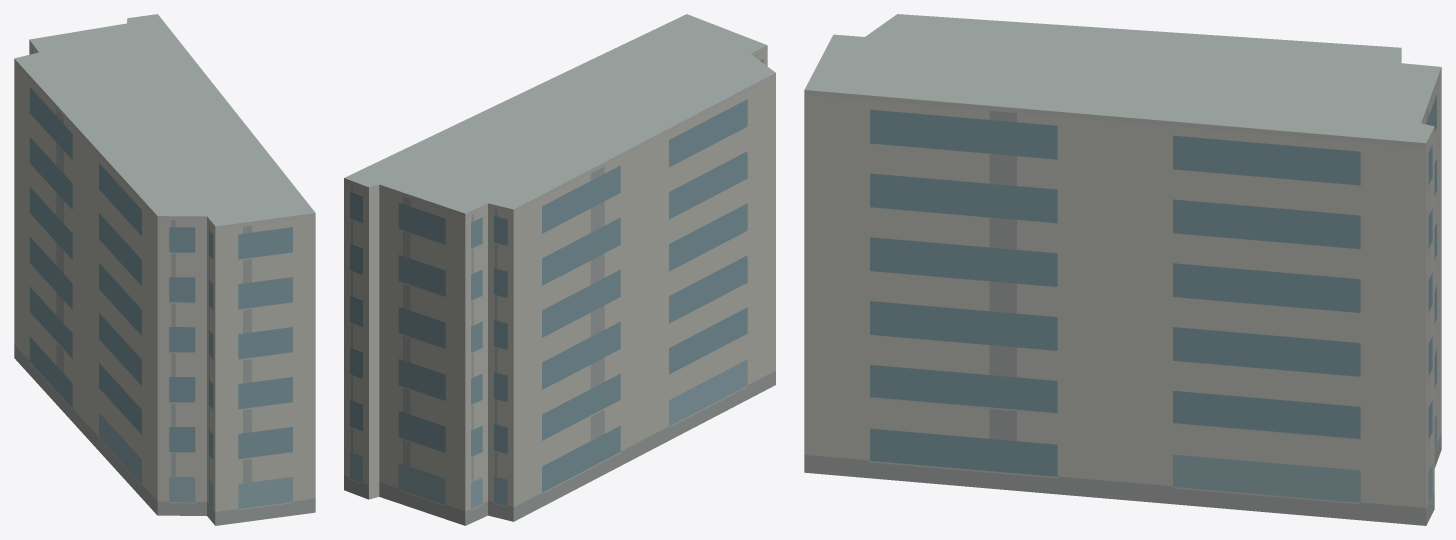
Rendered from survey-upis-32479614.glb.
3 views of the same model, side by side, from view 1: azimuth 30°, elevation 25°; view 2: azimuth 150°, elevation 25°; view 3: azimuth 270°, elevation 25° (orthographic). The views are drawn at different scales.
Parts seen in each view (by area): view 1: survey-upis-32479614.tmp; view 2: survey-upis-32479614.tmp; view 3: survey-upis-32479614.tmp.
Boxes of the visible parts, x1,y1,x2,y2 form: survey-upis-32479614.tmp: (14,14,315,525); survey-upis-32479614.tmp: (344,14,775,525); survey-upis-32479614.tmp: (804,14,1441,525).
Bounding box in the file's own units: 13.26 × 18.3 × 27.62.
